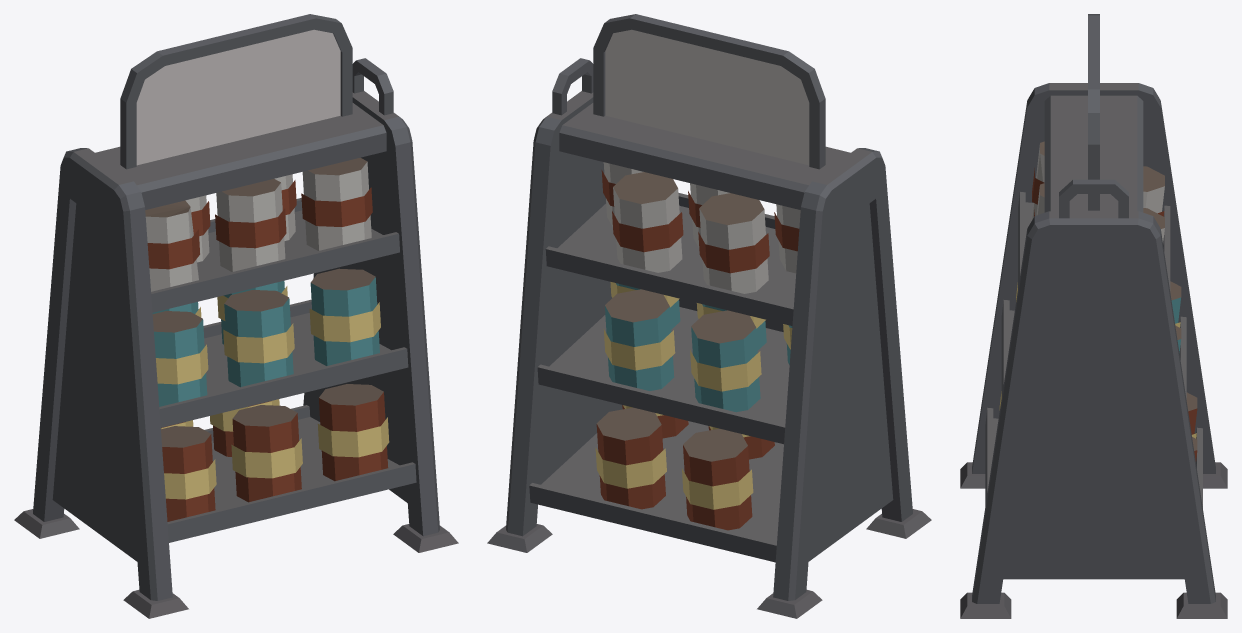
The model's file is oil-can-rack-f68976.glb.
3 views of the same model, side by side, from view 1: azimuth 30°, elevation 25°; view 2: azimuth 150°, elevation 25°; view 3: azimuth 270°, elevation 25° (orthographic).
Visible parts, largest first — view 1: rack, cans-mesh; view 2: rack, cans-mesh; view 3: rack, cans-mesh.
Boxes of the visible parts, <box> form: rack: <box>14,14,458,618</box>; cans-mesh: <box>145,157,389,521</box>; rack: <box>487,14,931,618</box>; cans-mesh: <box>595,162,800,530</box>; rack: <box>960,14,1227,618</box>; cans-mesh: <box>999,141,1197,461</box>.
Bounding box in the file's own units: 0.718 × 1.1 × 0.542.
